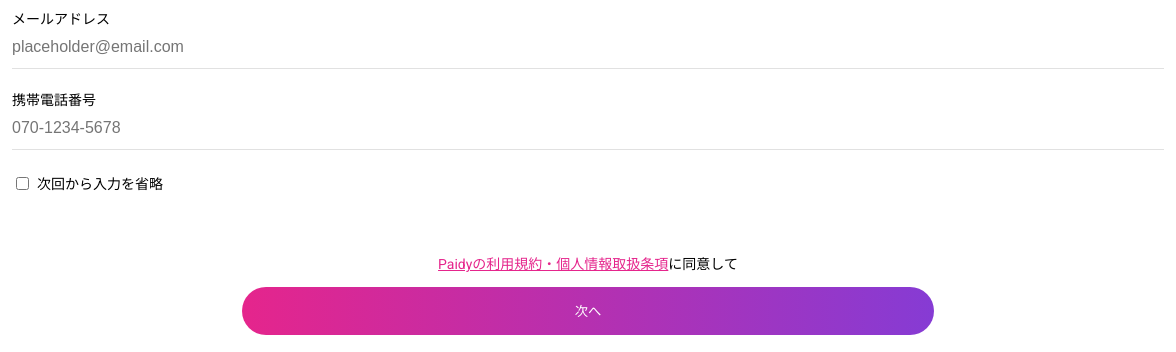
Test: Form › Phone input validation: › Prohibits unwanted characters
Step 1. Type "qwerty123" into the field labelled "携帯電話番号" → {"x": 588, "y": 128}, box [12,107,1164,150]
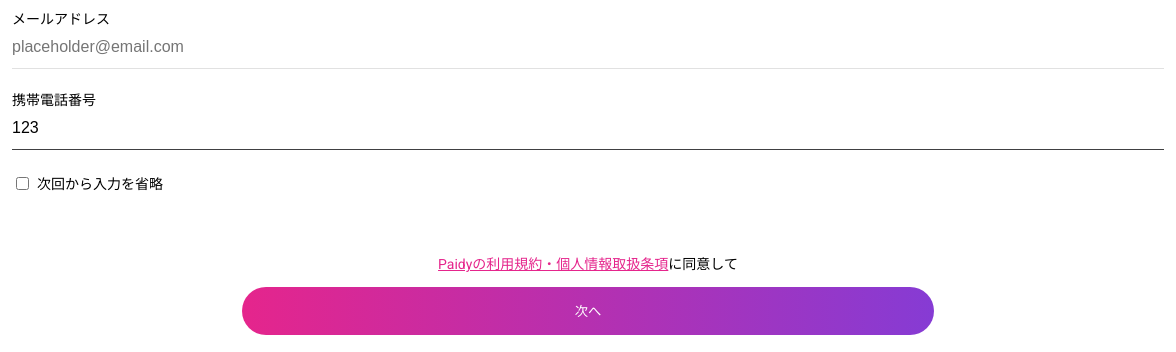
Result: the field labelled "携帯電話番号" holds "123" at [12,107,1164,150]
